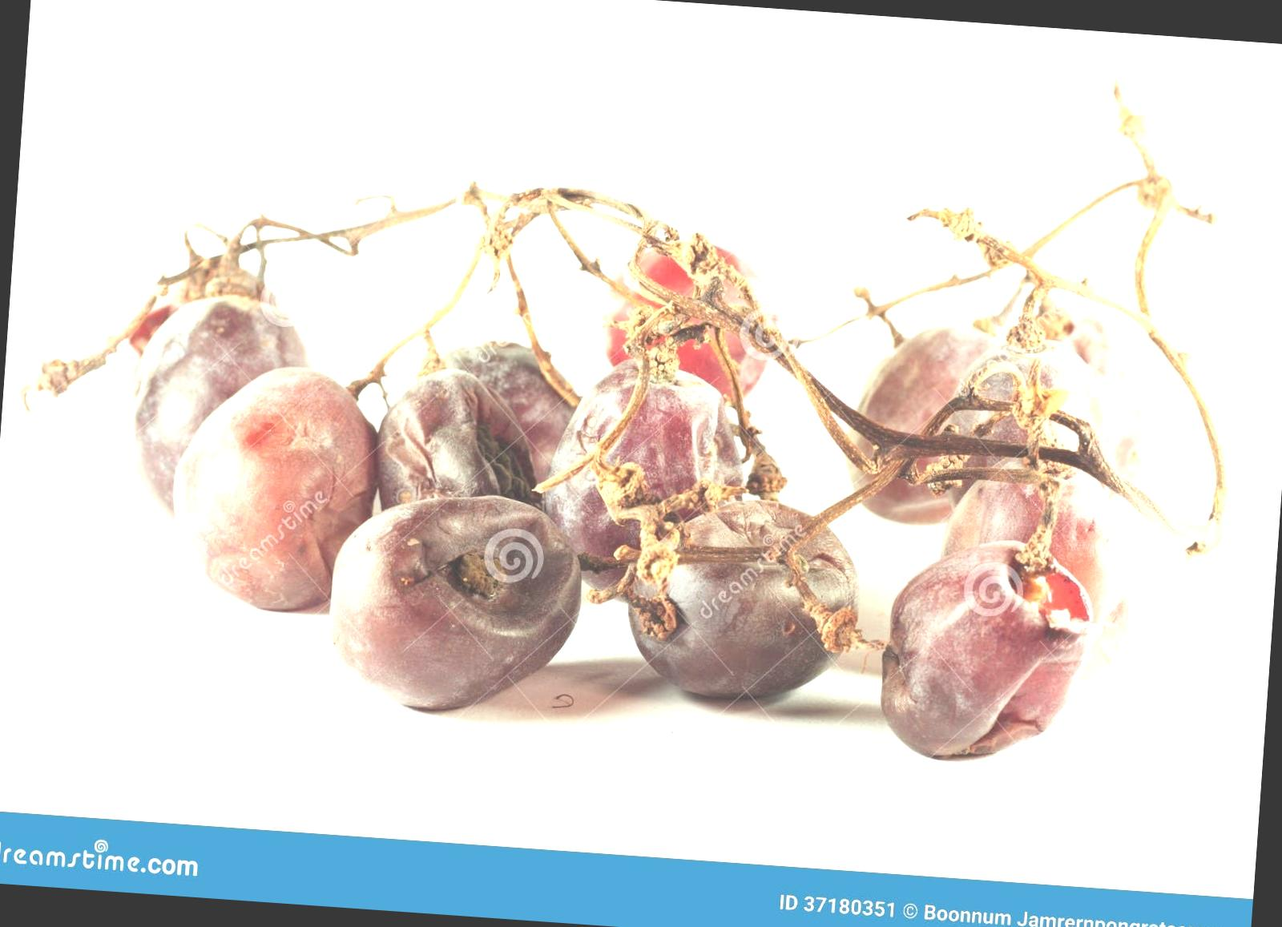Grape Rotten: (0, 4, 1257, 778), (321, 482, 590, 722)
